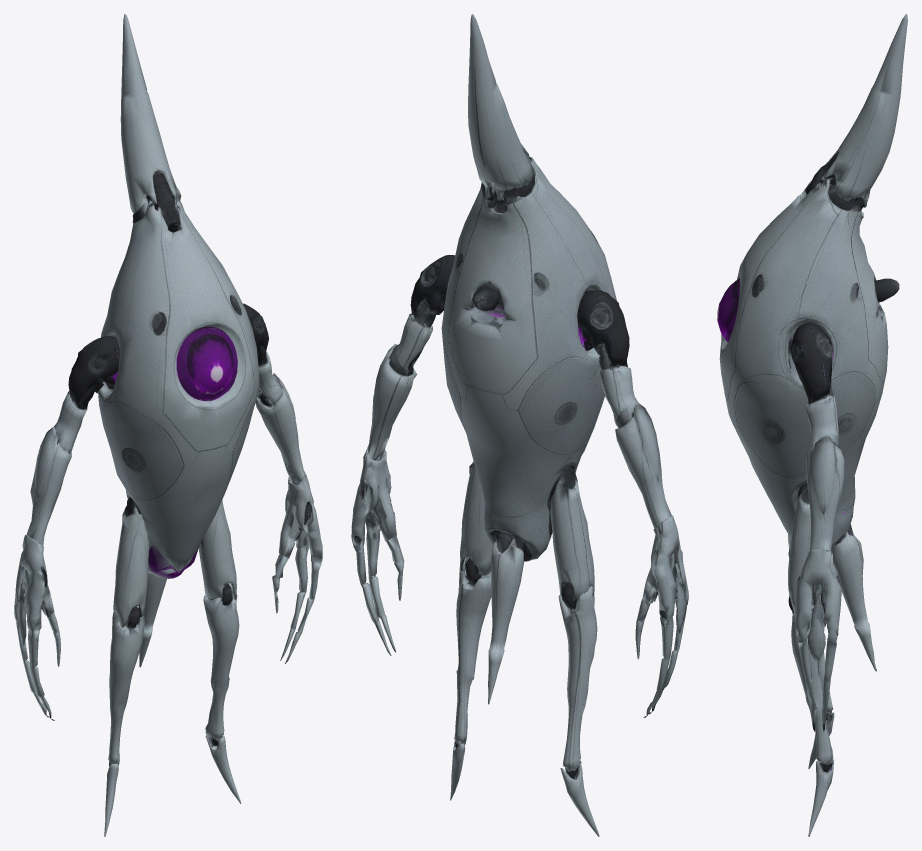
File: enm_observer_unit.glb
The picture shows the model from 3 angles, left to right: view 1: azimuth 30°, elevation 25°; view 2: azimuth 150°, elevation 25°; view 3: azimuth 270°, elevation 25°; orthographic projection. The views are drawn at different scales.
Bounding box in the file's own units: 0.3823 × 0.9507 × 0.2085.
Materials: 1 (1 with a texture image).
